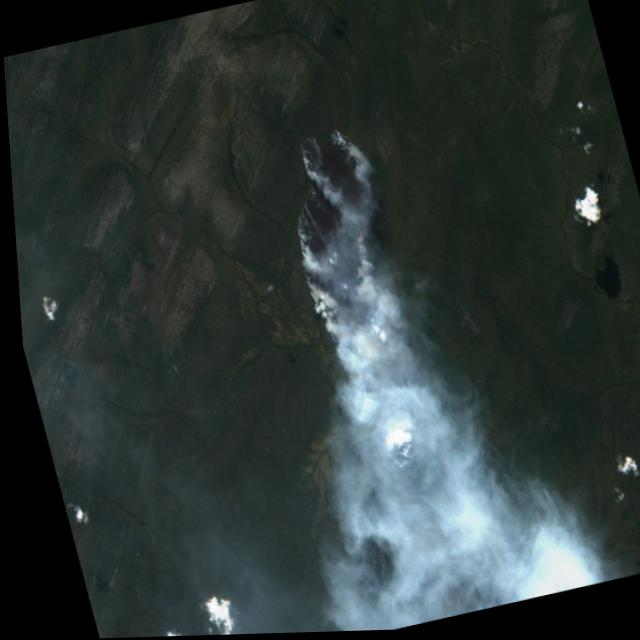fire: (263, 120, 420, 393)
